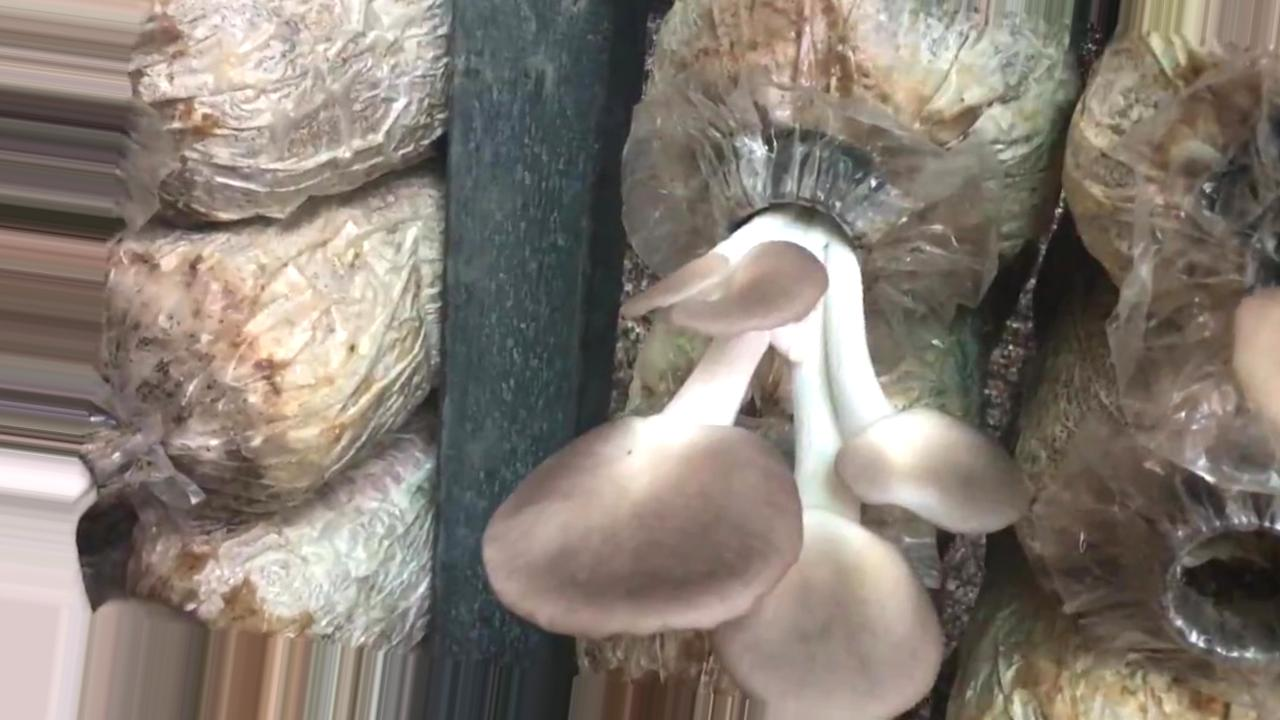nam: (486, 156, 1032, 720)
